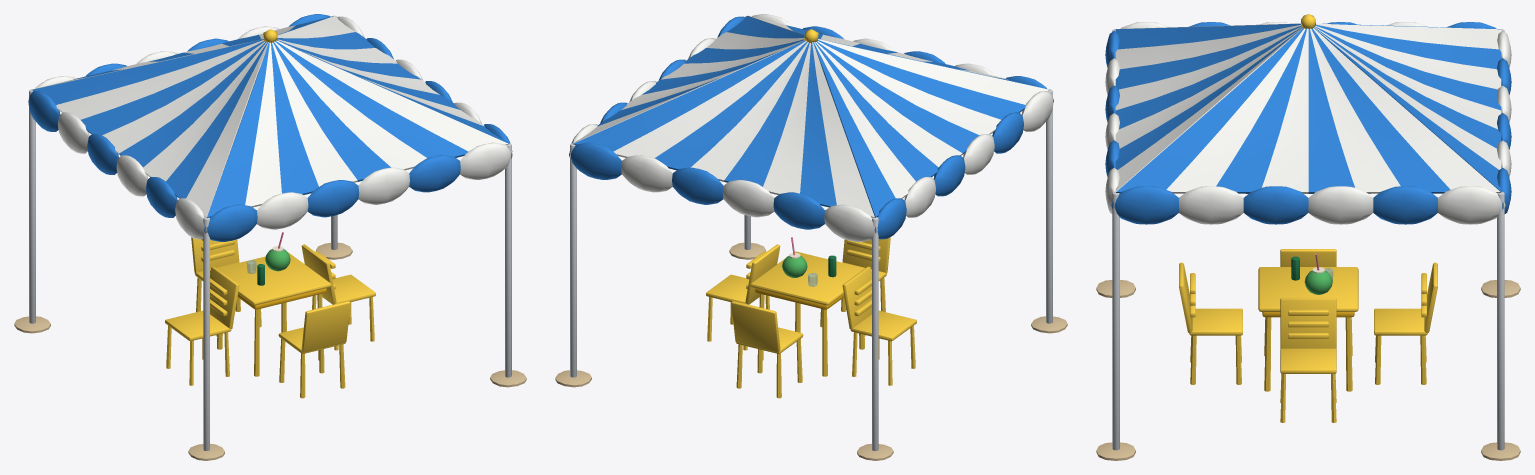
File: barraca_praia_mesa.glb
3 renders of one model, left to right at view 1: azimuth 30°, elevation 25°; view 2: azimuth 150°, elevation 25°; view 3: azimuth 270°, elevation 25°, orthographic. The views are drawn at different scales.
Visible parts, largest first — view 1: barraca_praia_mesa; view 2: barraca_praia_mesa; view 3: barraca_praia_mesa.
Part boxes in pixels (x1=…): barraca_praia_mesa: x1=14, y1=14, x2=526, y2=460; barraca_praia_mesa: x1=555, y1=14, x2=1067, y2=460; barraca_praia_mesa: x1=1096, y1=14, x2=1520, y2=460.
Bounding box in the file's own units: 3.31 × 3.09 × 3.31.
2 materials, 1 textured.
